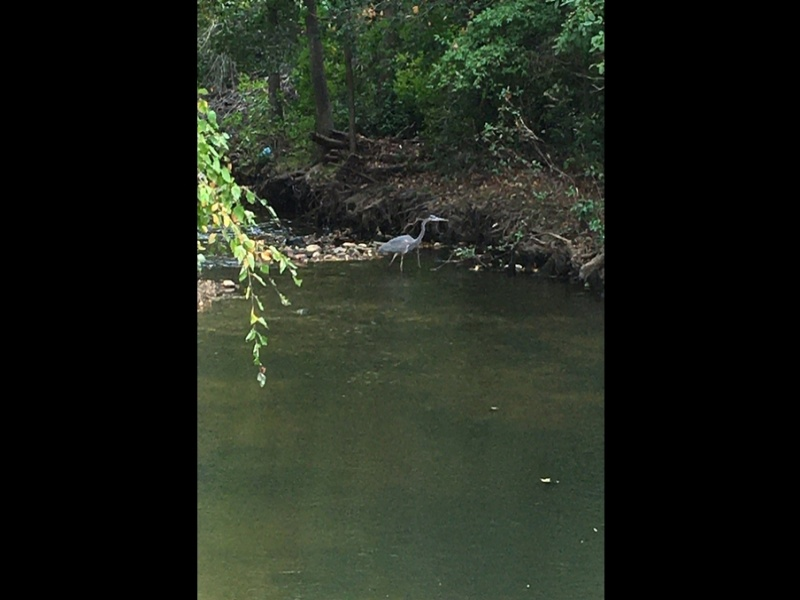heron: (378, 213, 448, 270)
